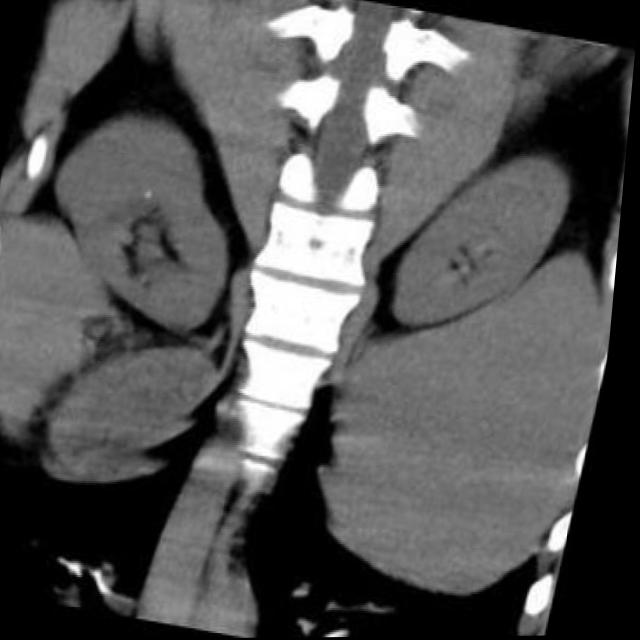Tas_Var: (144, 190, 157, 202)
